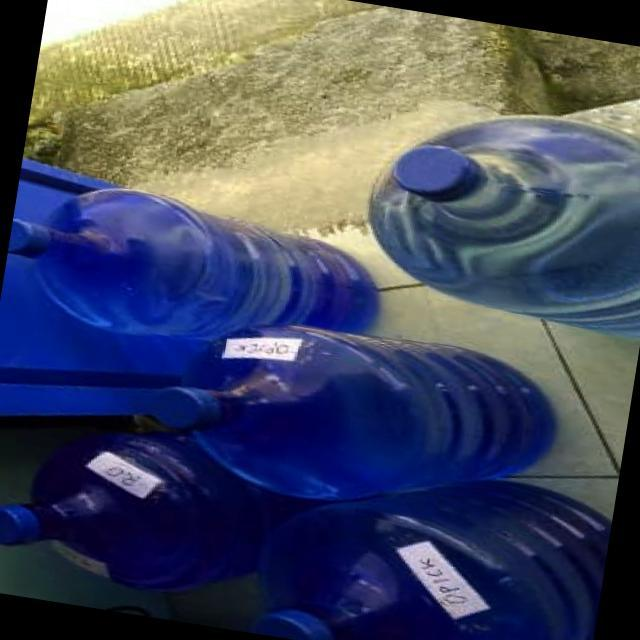HDPE Plastic: (150, 322, 562, 509), (364, 107, 640, 341), (0, 182, 386, 348), (242, 475, 616, 640), (1, 426, 302, 598)
